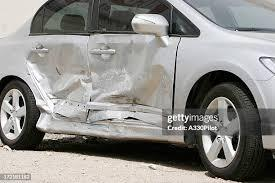dent: (25, 29, 182, 142)
